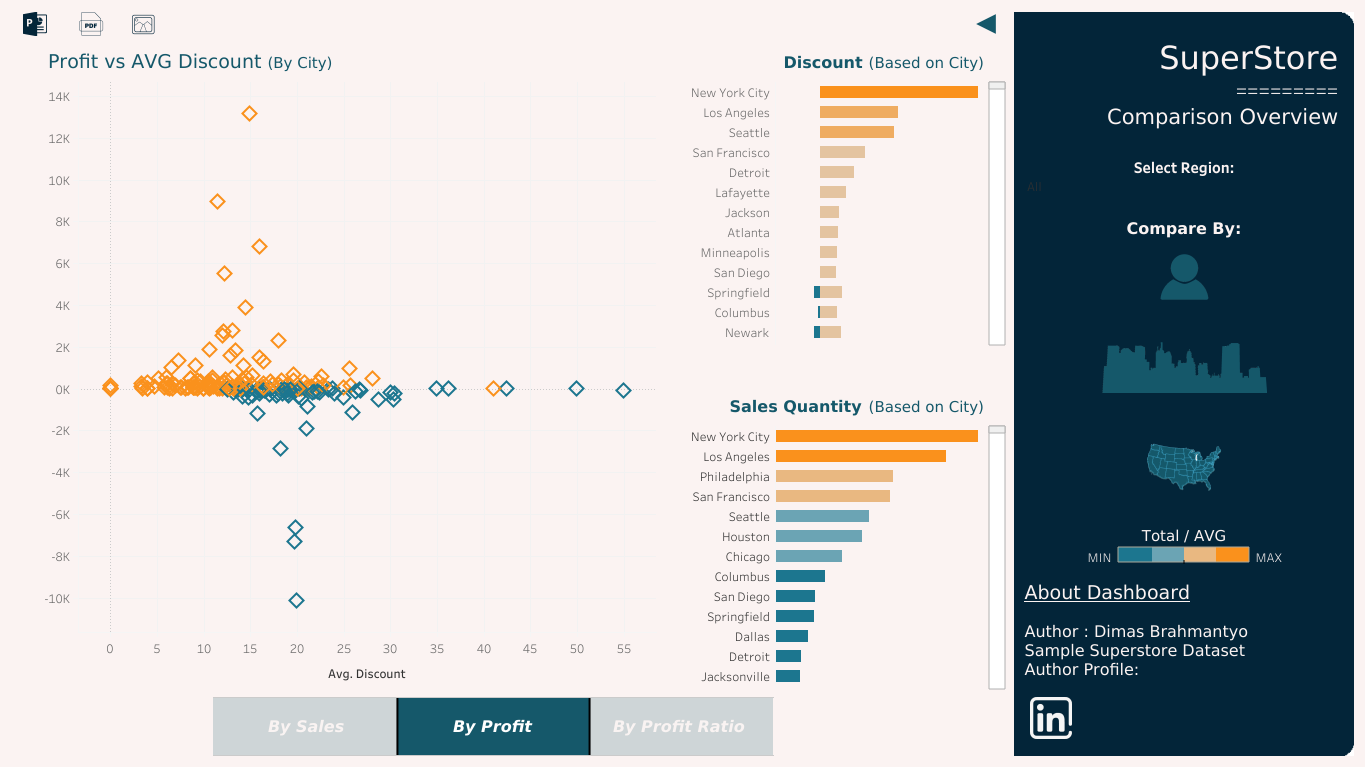

The page's visual inventory and layout, read from the dashboard file:
{"tool":"tableau","page":{"name":"Dashboard 2 - Comparison Overview (By City)","canvas":[1366,768],"ordinal":1},"visuals":[{"type":"dashboard-object","box":[8,8,54,32]},{"type":"dashboard-object","box":[62,8,60,32]},{"type":"dashboard-object","box":[122,8,44,32]},{"type":"worksheet","title":"Go Back","mark":"Shape","rows":["Calculation_132293265483010062"],"box":[962,8,48,32]},{"type":"image","param":"Image/2.png","box":[1010,8,348,752]},{"type":"text","box":[1025,21,316,125]},{"type":"worksheet","title":"Sheet 8 (2)","mark":"Shape","rows":["Calculation_132293265338007554"],"cols":["Calculation_1180506078092304394"],"box":[40,40,620,653]},{"type":"worksheet","title":"Based on City","mark":"Bar","rows":["City"],"box":[683,40,327,309]},{"type":"filter","title":"Based on City","param":"[federated.1u37z9d020ffhv1e04nla11qurtp].[a1. Select Region Set]","box":[1025,155,318,43]},{"type":"text","box":[1027,213,314,30]},{"type":"dashboard-object","box":[1028,251,313,52]},{"type":"dashboard-object","box":[1029,341,311,52]},{"type":"worksheet","title":"Quantity Based on City","mark":"Automatic","rows":["City"],"cols":["Quantity"],"box":[683,384,327,309]},{"type":"dashboard-object","box":[1031,440,306,52]},{"type":"legend","title":"Quantity Based on City","param":"[federated.1u37z9d020ffhv1e04nla11qurtp].[sum:Quantity:qk]","box":[1114,523,140,44]},{"type":"text","box":[1085,546,29,21]},{"type":"text","box":[1253,546,37,22]},{"type":"text","box":[1022,577,272,106]},{"type":"worksheet","title":"LinkedIn","mark":"Shape","rows":["Calculation_1125055507973922816"],"box":[1022,691,57,53]},{"type":"worksheet","title":"Field Button (Dashboard 2)","mark":"Shape","box":[209,693,569,67]}]}

Visuals, with their boxes on the page's 1366x768 design canvas (x1, y1, x2, y2). These are canvas units, not pixel positions in the 1365x767 screenshot, which may show the page scaled, cropped or inside an application window:
dashboard-object: BBox(8, 8, 62, 40)
dashboard-object: BBox(62, 8, 122, 40)
dashboard-object: BBox(122, 8, 166, 40)
"Go Back" worksheet (Shape marks): BBox(962, 8, 1010, 40)
image: BBox(1010, 8, 1358, 760)
text: BBox(1025, 21, 1341, 146)
"Sheet 8 (2)" worksheet (Shape marks): BBox(40, 40, 660, 693)
"Based on City" worksheet (Bar marks): BBox(683, 40, 1010, 349)
"Based on City" filter: BBox(1025, 155, 1343, 198)
text: BBox(1027, 213, 1341, 243)
dashboard-object: BBox(1028, 251, 1341, 303)
dashboard-object: BBox(1029, 341, 1340, 393)
"Quantity Based on City" worksheet: BBox(683, 384, 1010, 693)
dashboard-object: BBox(1031, 440, 1337, 492)
"Quantity Based on City" legend: BBox(1114, 523, 1254, 567)
text: BBox(1085, 546, 1114, 567)
text: BBox(1253, 546, 1290, 568)
text: BBox(1022, 577, 1294, 683)
"LinkedIn" worksheet (Shape marks): BBox(1022, 691, 1079, 744)
"Field Button (Dashboard 2)" worksheet (Shape marks): BBox(209, 693, 778, 760)
